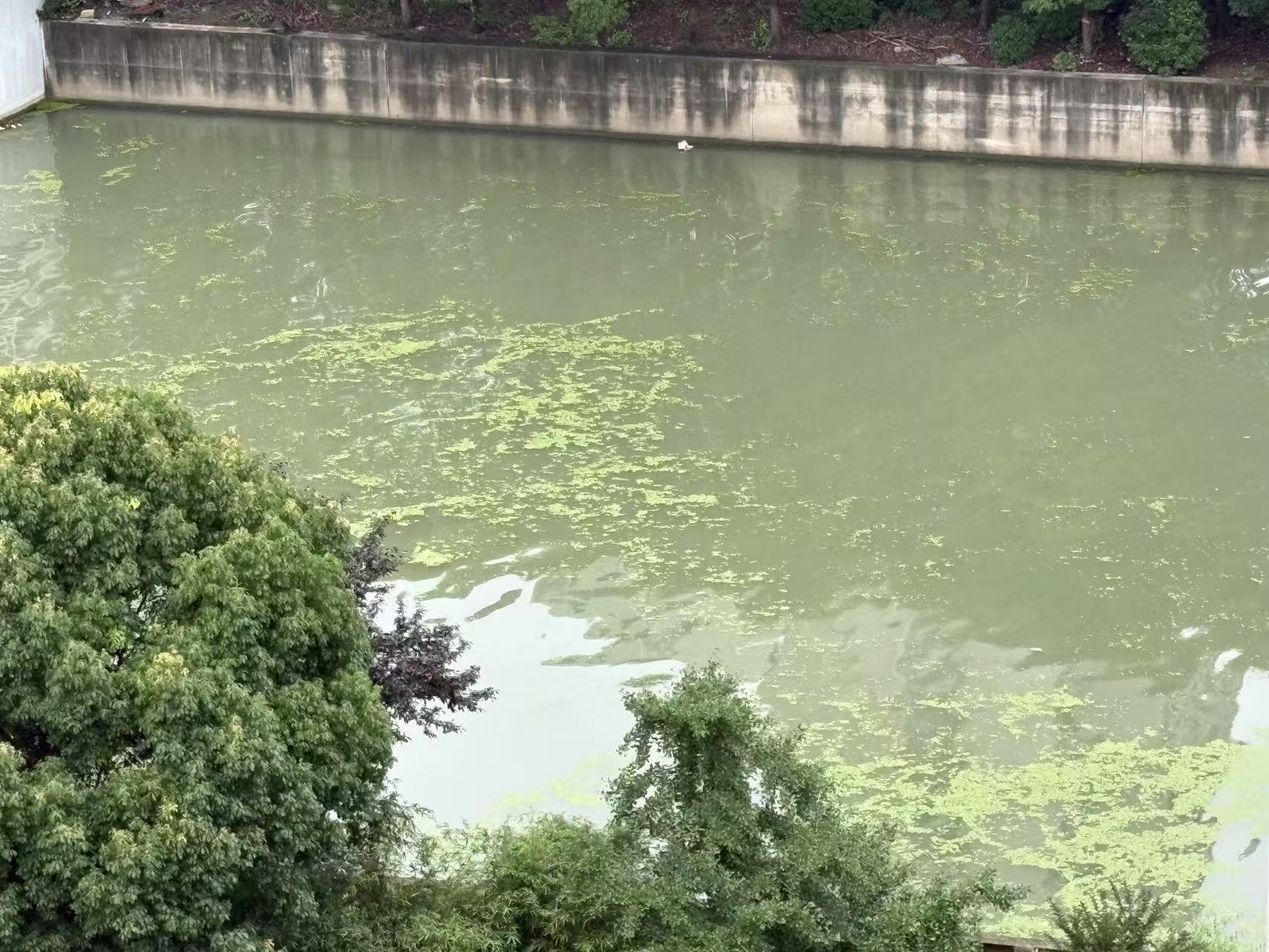Other: (1027, 747, 1255, 879), (888, 752, 1024, 831), (495, 382, 661, 446), (255, 317, 436, 367), (493, 326, 679, 364)
Plastic wastes: (675, 139, 694, 151)
